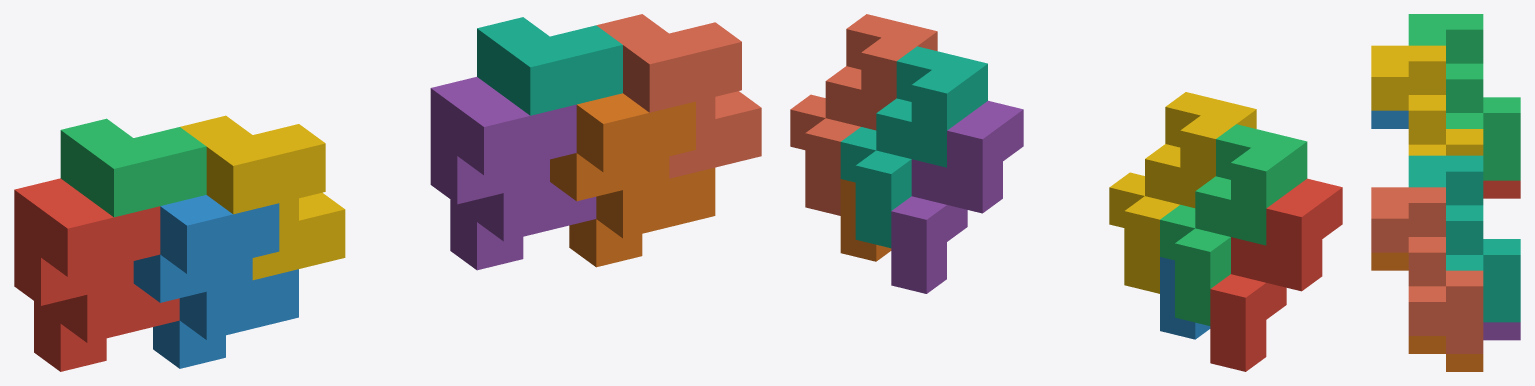
The model's file is tiling.obj.
The picture shows the model from 3 angles, left to right: view 1: azimuth 30°, elevation 25°; view 2: azimuth 150°, elevation 25°; view 3: azimuth 270°, elevation 25°; orthographic projection. The views are drawn at different scales.
Visible parts, largest first — view 1: copy_1_domain_5, copy_1_domain_1, copy_1_domain_6, copy_1_domain_2, copy_1_domain_4, copy_1_domain_8, copy_1_domain_3, copy_1_domain_7; view 2: copy_1_domain_7, copy_1_domain_3, copy_1_domain_1, copy_1_domain_5, copy_1_domain_8, copy_1_domain_4, copy_1_domain_6, copy_1_domain_2; view 3: copy_1_domain_8, copy_1_domain_7, copy_1_domain_3, copy_1_domain_4, copy_1_domain_6, copy_1_domain_1, copy_1_domain_2, copy_1_domain_5.
Part boxes in pixels (x1=…): copy_1_domain_5: x1=430, y1=77, x2=596, y2=270; copy_1_domain_1: x1=14, y1=178, x2=179, y2=371; copy_1_domain_6: x1=550, y1=93, x2=715, y2=267; copy_1_domain_2: x1=133, y1=195, x2=298, y2=368; copy_1_domain_4: x1=180, y1=115, x2=345, y2=280; copy_1_domain_8: x1=596, y1=14, x2=761, y2=178; copy_1_domain_3: x1=60, y1=118, x2=206, y2=217; copy_1_domain_7: x1=477, y1=17, x2=622, y2=115; copy_1_domain_7: x1=840, y1=46, x2=987, y2=248; copy_1_domain_3: x1=1160, y1=124, x2=1307, y2=325; copy_1_domain_1: x1=1210, y1=178, x2=1342, y2=371; copy_1_domain_5: x1=891, y1=100, x2=1023, y2=293; copy_1_domain_8: x1=790, y1=14, x2=937, y2=215; copy_1_domain_4: x1=1109, y1=92, x2=1256, y2=293; copy_1_domain_6: x1=840, y1=179, x2=891, y2=261; copy_1_domain_2: x1=1160, y1=257, x2=1210, y2=339; copy_1_domain_8: x1=1371, y1=187, x2=1483, y2=353; copy_1_domain_7: x1=1408, y1=155, x2=1520, y2=322; copy_1_domain_3: x1=1408, y1=14, x2=1520, y2=180; copy_1_domain_4: x1=1371, y1=45, x2=1483, y2=155; copy_1_domain_6: x1=1371, y1=252, x2=1483, y2=371; copy_1_domain_1: x1=1483, y1=180, x2=1520, y2=198; copy_1_domain_2: x1=1371, y1=110, x2=1408, y2=128; copy_1_domain_5: x1=1483, y1=322, x2=1520, y2=340.
Bounding box in the file's own units: 15 × 5 × 4.
